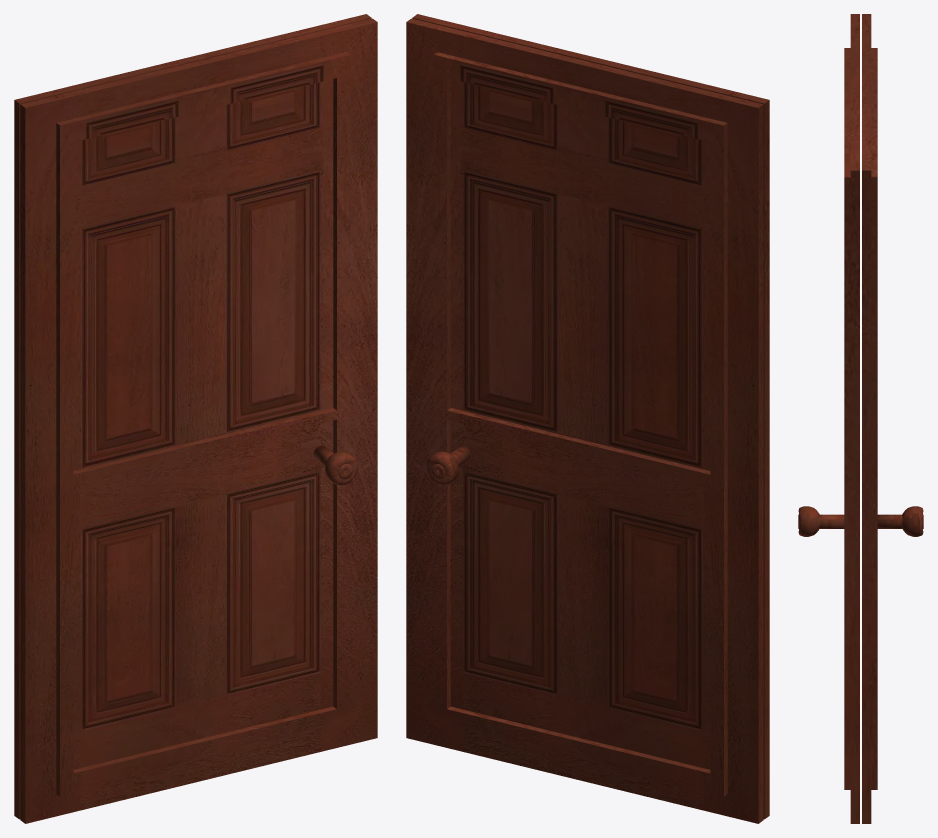
Rendered from Door.fbx.
3 renders of one model, left to right at view 1: azimuth 30°, elevation 25°; view 2: azimuth 150°, elevation 25°; view 3: azimuth 270°, elevation 25°, orthographic. The views are drawn at different scales.
Visible parts, largest first — view 1: Cube.002; view 2: Cube.002; view 3: Cube.002.
Part boxes in pixels (x1=…): Cube.002: x1=14, y1=14, x2=377, y2=823; Cube.002: x1=406, y1=14, x2=769, y2=823; Cube.002: x1=798, y1=14, x2=923, y2=823.
Bounding box in the file's own units: 0.1253 × 0.2434 × 0.0423.
